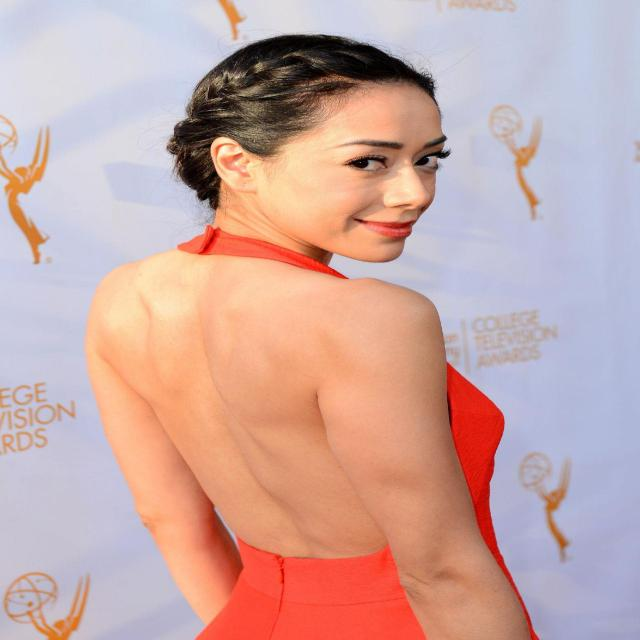no-earmuff: (190, 120, 280, 202)
